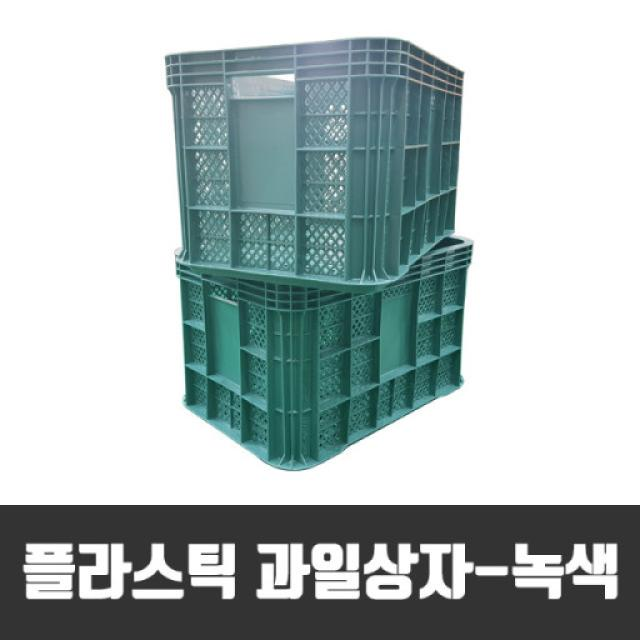basket: (165, 33, 481, 475)
